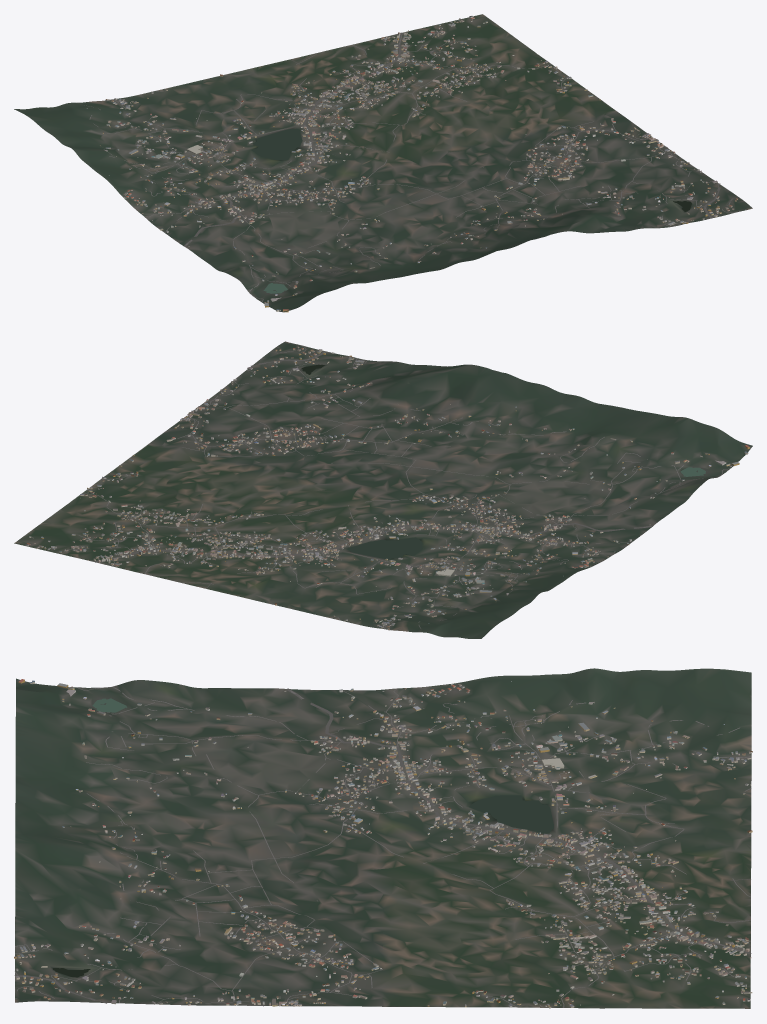
3 renders of one model, top to bottom at view 1: azimuth 30°, elevation 25°; view 2: azimuth 150°, elevation 25°; view 3: azimuth 270°, elevation 25°, orthographic. The views are drawn at different scales.
Visible parts, largest first — view 1: ground, buildings, roads, water; view 2: ground, buildings, roads, water; view 3: ground, buildings, roads, water.
Part boxes in pixels (x1=…): ground: x1=14, y1=14, x2=752, y2=312; buildings: x1=86, y1=16, x2=737, y2=312; roads: x1=76, y1=29, x2=746, y2=301; water: x1=251, y1=128, x2=691, y2=293; ground: x1=14, y1=341, x2=752, y2=638; buildings: x1=25, y1=346, x2=749, y2=630; roads: x1=67, y1=343, x2=730, y2=629; water: x1=301, y1=364, x2=705, y2=559; ground: x1=15, y1=668, x2=751, y2=1008; buildings: x1=14, y1=679, x2=752, y2=1008; roads: x1=14, y1=687, x2=751, y2=1007; water: x1=53, y1=698, x2=553, y2=977.
Bounding box in the file's own units: 2825 × 157 × 2816.
